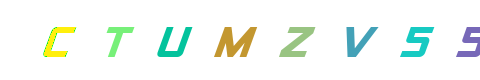5: (310, 0, 390, 80), (399, 0, 479, 80)
C: (17, 0, 97, 80)
M: (196, 0, 276, 80)
T: (69, 0, 149, 80)
U: (195, 0, 275, 80)
V: (259, 0, 339, 80)
Z: (242, 0, 322, 80)
